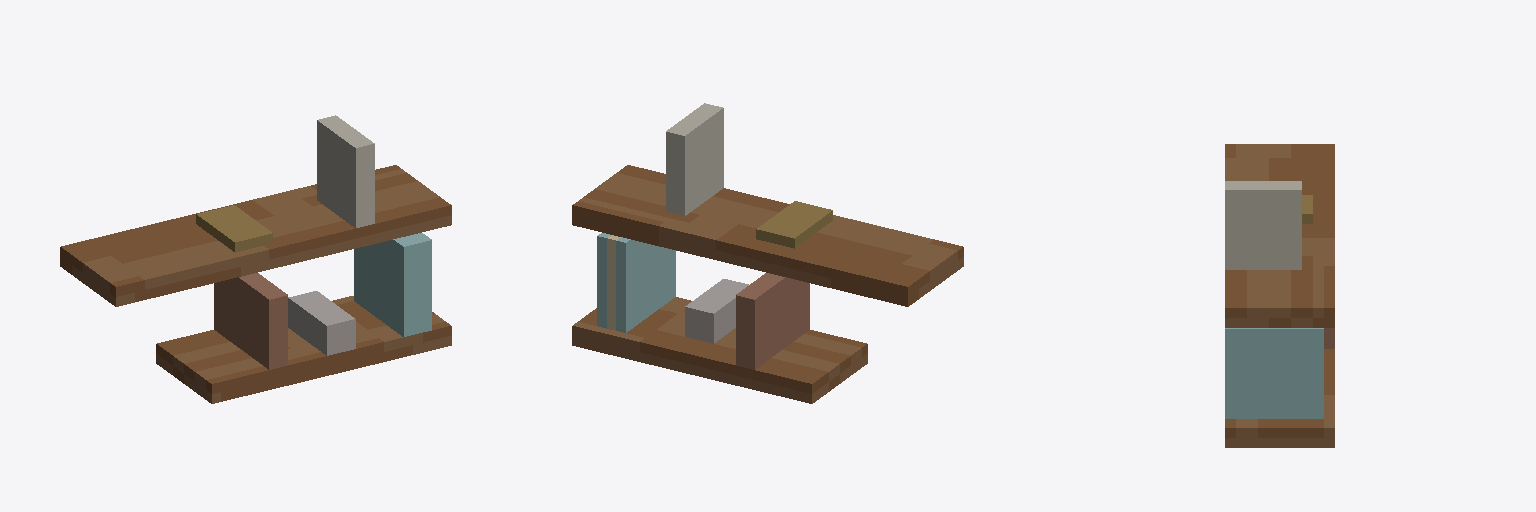
3 views of the same model, side by side, from view 1: azimuth 30°, elevation 25°; view 2: azimuth 150°, elevation 25°; view 3: azimuth 270°, elevation 25° (orthographic).
Visible parts, largest first — view 1: object 1; view 2: object 1; view 3: object 1.
Part boxes in pixels (left/top/right/bottom): object 1: left=60, top=115, right=451, bottom=403; object 1: left=572, top=103, right=963, bottom=403; object 1: left=1225, top=144, right=1334, bottom=447.
Bounding box in the file's own units: 3.5 × 2.2 × 1.
Materials: 1 (1 with a texture image).